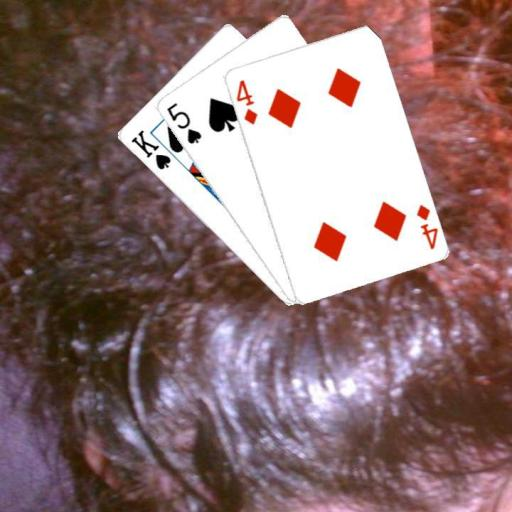4D: (232, 76, 259, 126), (412, 201, 439, 251)
5S: (163, 100, 203, 146)
KS: (127, 127, 172, 172)
